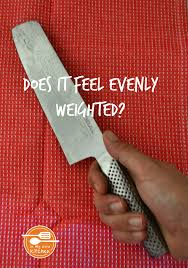knife: (6, 12, 171, 259)
